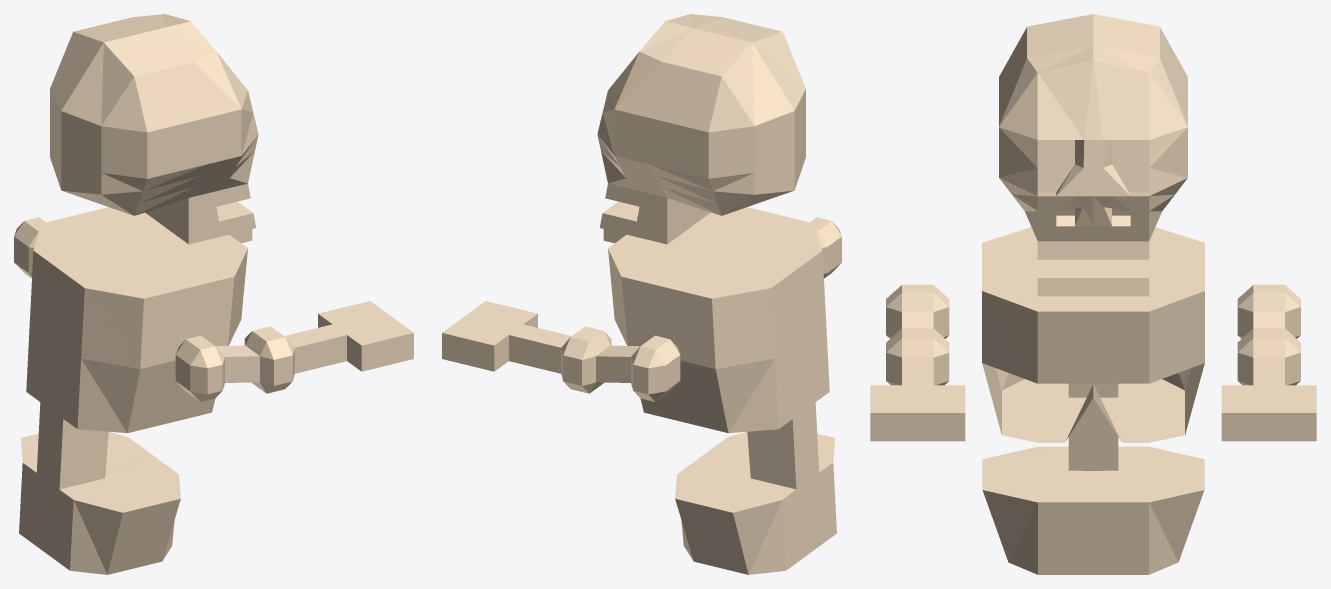
Rendered from Skeleton.dae.
3 views of the same model, side by side, from view 1: azimuth 30°, elevation 25°; view 2: azimuth 150°, elevation 25°; view 3: azimuth 270°, elevation 25° (orthographic). The views are drawn at different scales.
Visible parts, largest first — view 1: Body, Head, Arm; view 2: Body, Head, Arm; view 3: Body, Head, Arm.
Part boxes in pixels (<box>): Body: <box>19,207,247,574</box>; Head: <box>50,14,258,244</box>; Arm: <box>14,217,413,401</box>; Body: <box>608,207,836,574</box>; Head: <box>597,14,805,244</box>; Arm: <box>442,217,841,401</box>; Body: <box>982,227,1204,574</box>; Head: <box>999,14,1187,296</box>; Arm: <box>870,284,1316,441</box>.
Bounding box in the file's own units: 1.5 × 2 × 2.66.
